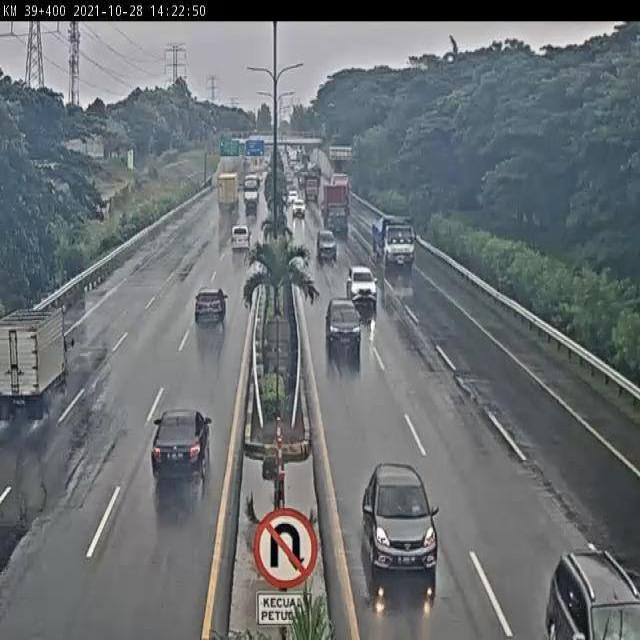car: (149, 407, 214, 477), (325, 297, 362, 353), (196, 287, 229, 325)
truck-l-: (371, 215, 419, 273)
truck-m-: (0, 307, 77, 421)
truck-xl-: (325, 185, 354, 240)
